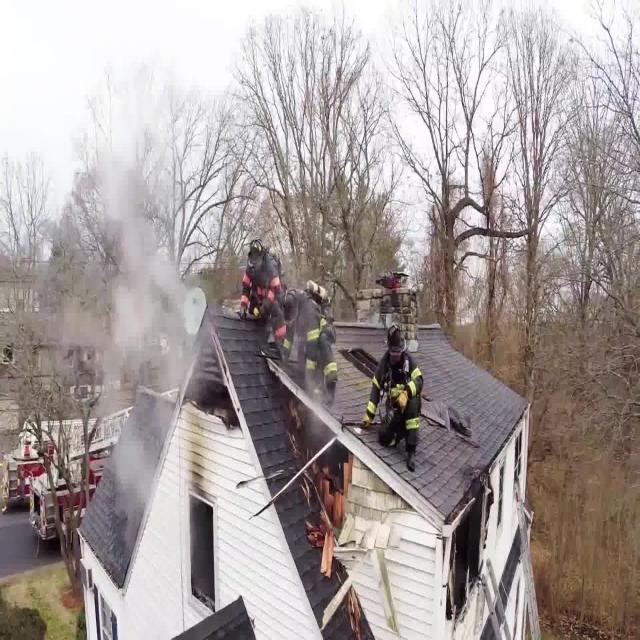Smoke: (103, 202, 202, 388)
